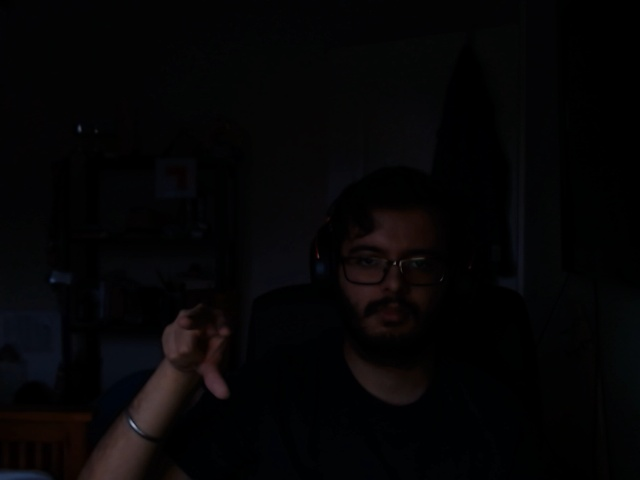No: (150, 295, 249, 408)
